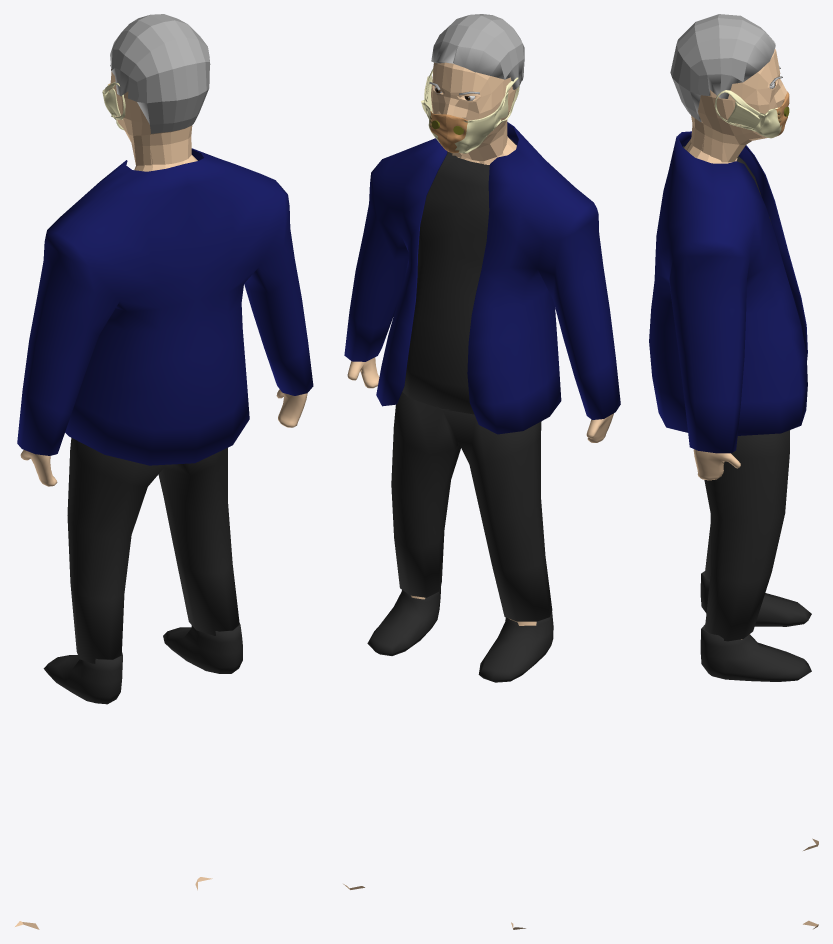
Rendered from gertjan.fbx.
3 views of the same model, side by side, from view 1: azimuth 30°, elevation 25°; view 2: azimuth 150°, elevation 25°; view 3: azimuth 270°, elevation 25° (orthographic). The views are drawn at different scales.
Visible parts, largest first — view 1: trui.001, broek, Lowpoly.001, Lowpoly, schoen1, schoen2, lichaam; view 2: trui.001, broek, trui, Lowpoly, Lowpoly.001, schoen1, schoen2, mask1.010, lichaam; view 3: trui.001, broek, Lowpoly.001, Lowpoly, schoen2, schoen1, mask1.010, lichaam.
Boxes of the visible parts, x1=… form: trui.001: x1=17, y1=148, x2=313, y2=465; broek: x1=67, y1=438, x2=239, y2=663; Lowpoly.001: x1=110, y1=14, x2=210, y2=133; Lowpoly: x1=15, y1=69, x2=212, y2=929; schoen1: x1=43, y1=652, x2=122, y2=704; schoen2: x1=163, y1=623, x2=242, y2=673; lichaam: x1=20, y1=389, x2=307, y2=486; trui.001: x1=344, y1=122, x2=620, y2=434; broek: x1=391, y1=392, x2=552, y2=621; trui: x1=402, y1=138, x2=516, y2=414; Lowpoly: x1=343, y1=62, x2=525, y2=929; Lowpoly.001: x1=431, y1=14, x2=524, y2=89; schoen1: x1=478, y1=612, x2=553, y2=682; schoen2: x1=367, y1=585, x2=441, y2=655; mask1.010: x1=421, y1=68, x2=519, y2=153; lichaam: x1=347, y1=157, x2=613, y2=625; trui.001: x1=649, y1=131, x2=807, y2=453; broek: x1=704, y1=430, x2=789, y2=641; Lowpoly.001: x1=670, y1=14, x2=775, y2=121; Lowpoly: x1=684, y1=49, x2=818, y2=929; schoen2: x1=700, y1=624, x2=811, y2=681; schoen1: x1=700, y1=571, x2=811, y2=626; mask1.010: x1=714, y1=90, x2=789, y2=138; lichaam: x1=693, y1=158, x2=749, y2=639.
Size of the model in its own units: 284 by 874 by 155.
